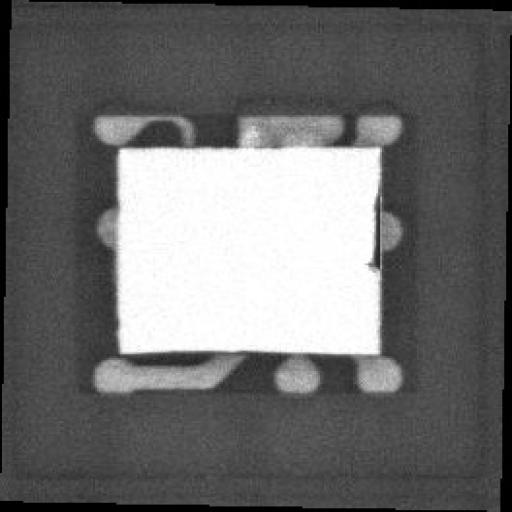DIE_BROKEN: (363, 187, 380, 271)
